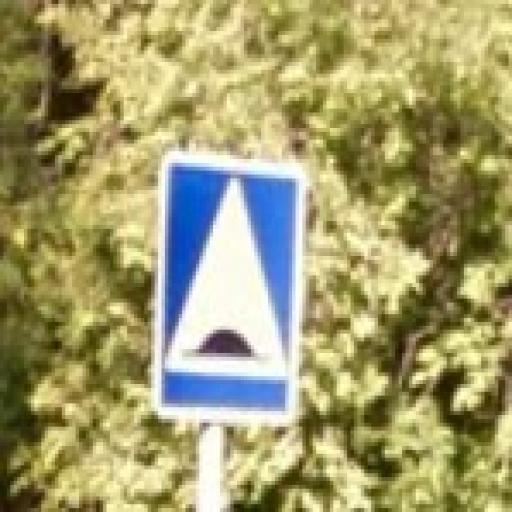traffic_sign: (156, 152, 307, 424)
